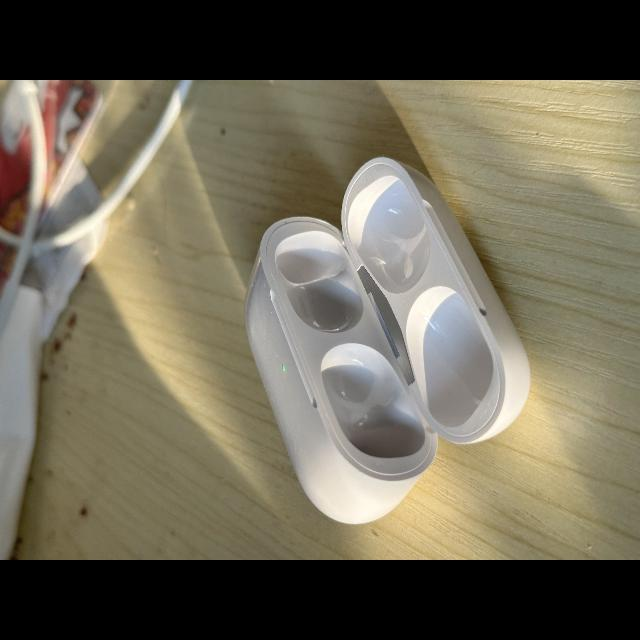AirPods Pro: (246, 156, 531, 524)
